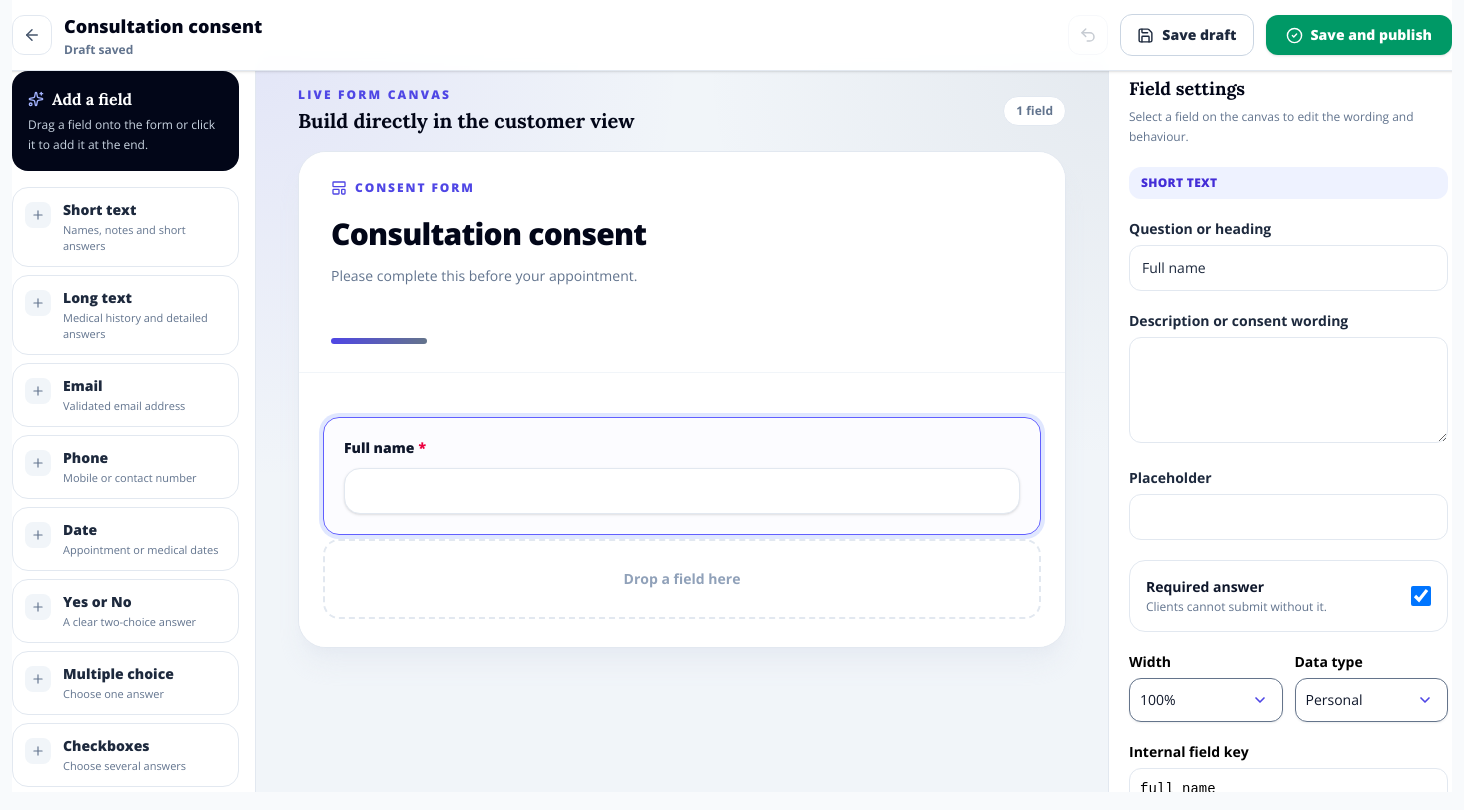
Test: visual consent form builder › saves the draft, publishes it, and exposes the final tenant form URL
Expected: the field named "Full name" is shown, x1=344 y1=468 x2=1020 y2=514
Click the button "Save and publish" at (1359, 35), box x1=1266 y1=15 x2=1452 y2=55
(page scrolled)
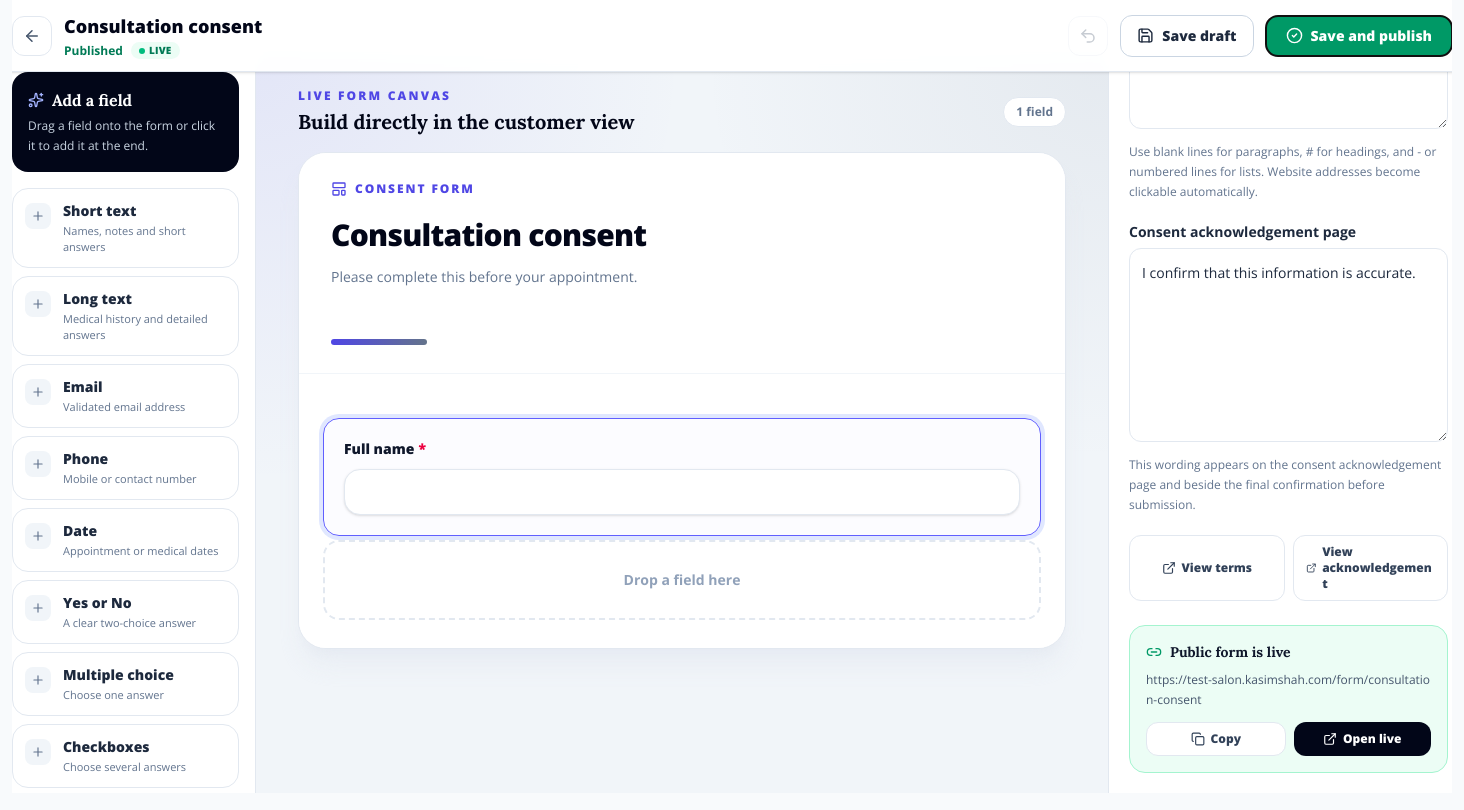
Expected: the text "Published" is shown, x1=64 y1=43 x2=123 y2=59
Expected: the text "https://test-salon.kasimshah.com/form/consultation-consent" is shown, x1=1146 y1=670 x2=1431 y2=710
